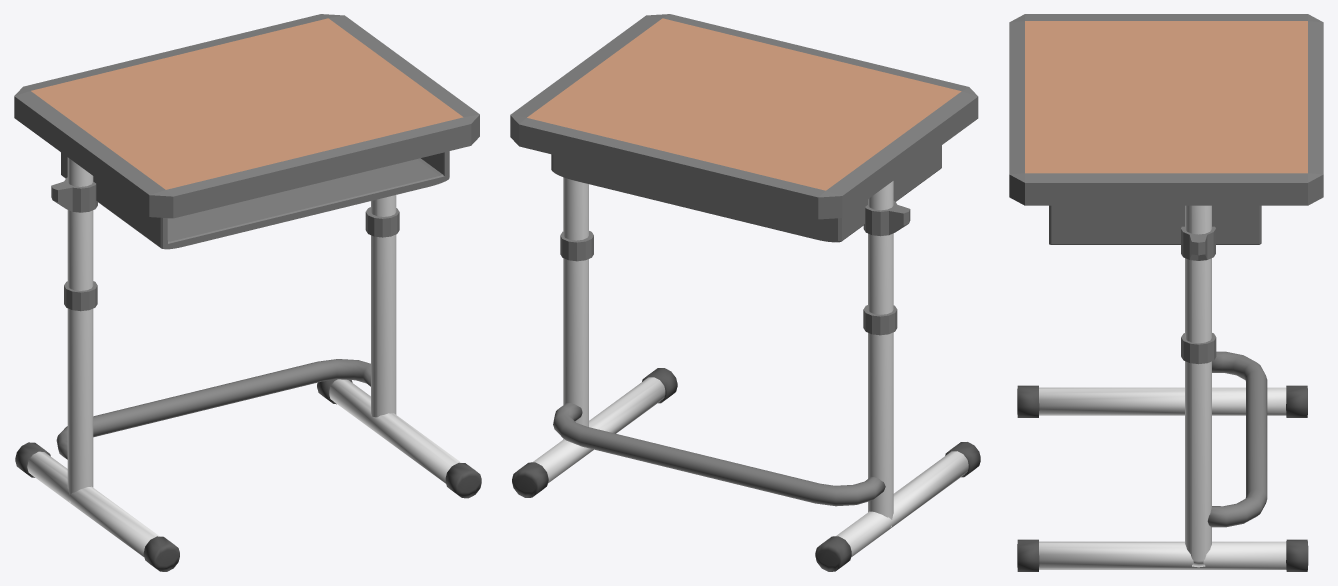
The picture shows the model from 3 angles, left to right: view 1: azimuth 30°, elevation 25°; view 2: azimuth 150°, elevation 25°; view 3: azimuth 270°, elevation 25°; orthographic projection. The views are drawn at different scales.
Parts seen in each view (by area): view 1: Cube.029, Cube.022, Cube.026, Cube.020, Cube.021, Cube.025, Cube.023, Cube.030, Cube.027, Cube.028; view 2: Cube.029, Cube.022, Cube.020, Cube.026, Cube.021, Cube.025, Cube.023, Cube.030, Cube.028, Cube.027; view 3: Cube.029, Cube.021, Cube.023, Cube.022, Cube.025, Cube.020, Cube.031, Cube.027.
Boxes of the visible parts, bbox=[...] form: Cube.029: bbox=[14, 14, 479, 218]; Cube.022: bbox=[61, 151, 449, 249]; Cube.026: bbox=[67, 157, 93, 502]; Cube.020: bbox=[56, 359, 370, 459]; Cube.021: bbox=[371, 195, 396, 417]; Cube.025: bbox=[15, 442, 179, 571]; Cube.023: bbox=[317, 379, 481, 498]; Cube.030: bbox=[51, 177, 97, 212]; Cube.027: bbox=[365, 207, 399, 237]; Cube.028: bbox=[64, 281, 97, 311]; Cube.029: bbox=[510, 14, 978, 219]; Cube.022: bbox=[551, 145, 941, 242]; Cube.020: bbox=[553, 403, 885, 506]; Cube.026: bbox=[868, 181, 893, 527]; Cube.021: bbox=[563, 177, 588, 439]; Cube.025: bbox=[815, 442, 980, 571]; Cube.023: bbox=[512, 368, 677, 497]; Cube.030: bbox=[863, 201, 910, 236]; Cube.028: bbox=[863, 305, 897, 335]; Cube.027: bbox=[560, 231, 593, 261]; Cube.029: bbox=[1009, 14, 1323, 205]; Cube.021: bbox=[1185, 205, 1211, 567]; Cube.023: bbox=[1017, 539, 1308, 571]; Cube.022: bbox=[1049, 205, 1261, 244]; Cube.025: bbox=[1017, 385, 1307, 417]; Cube.020: bbox=[1207, 351, 1267, 527]; Cube.031: bbox=[1181, 226, 1215, 260]; Cube.027: bbox=[1181, 333, 1216, 364].
Size of the model in its own units: 482 by 487 by 350.
